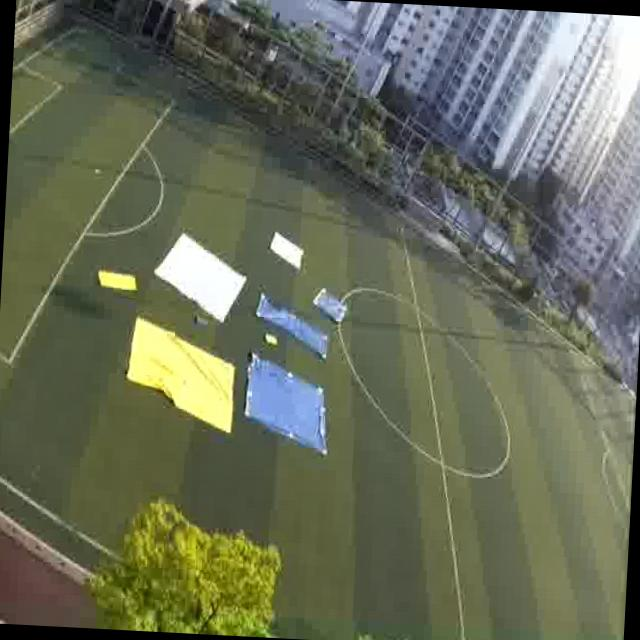danger: (248, 365, 328, 446), (258, 300, 296, 330), (316, 288, 346, 322)
safety: (163, 244, 244, 314), (270, 236, 304, 268)
warning: (130, 332, 228, 408), (96, 270, 138, 294)
